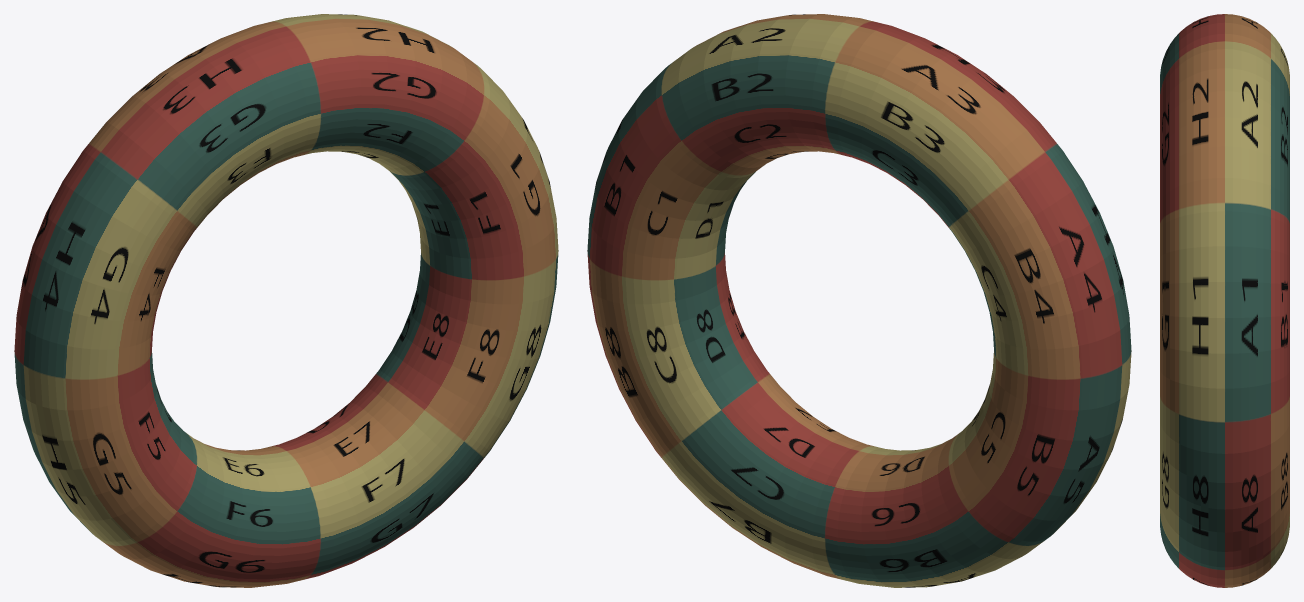
Rendered from texture_torus_R28_r24.glb.
3 renders of one model, left to right at view 1: azimuth 30°, elevation 25°; view 2: azimuth 150°, elevation 25°; view 3: azimuth 270°, elevation 25°, orthographic. The views are drawn at different scales.
Visible parts, largest first — view 1: world; view 2: world; view 3: world.
Boxes of the visible parts, <box> form: world: <box>14,14,558,587</box>; world: <box>587,14,1131,587</box>; world: <box>1160,14,1289,587</box>.
Size of the model in its own units: 37.07 by 36.99 by 8.38.
1 material, 1 textured.
